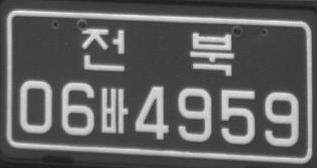0: (19, 79, 53, 134)
4: (135, 86, 169, 139)
5: (220, 88, 255, 145)
6: (60, 81, 95, 136)
9: (264, 90, 300, 146), (176, 86, 212, 141)
바: (99, 86, 128, 134)
전북_D: (81, 27, 234, 77)
